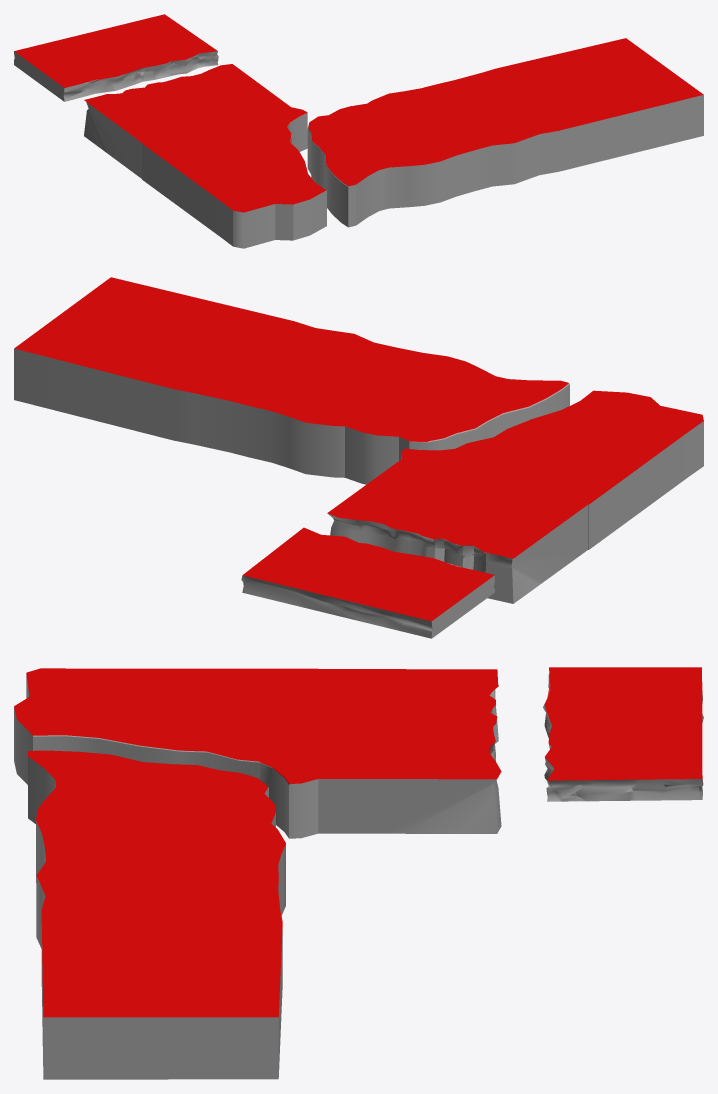
Rendered from Knight-TEX-Ground.fbx.
The picture shows the model from 3 angles, top to bottom: view 1: azimuth 30°, elevation 25°; view 2: azimuth 150°, elevation 25°; view 3: azimuth 270°, elevation 25°; orthographic projection. The views are drawn at different scales.
Parts seen in each view (by area): view 1: polySurface239, polySurface238, polySurface233, polySurface232; view 2: polySurface239, polySurface238, polySurface233, polySurface232; view 3: polySurface239, polySurface238, polySurface233, polySurface232.
Boxes of the visible parts, x1,y1,x2,y2 form: polySurface239: (307, 38, 703, 227); polySurface238: (142, 107, 326, 248); polySurface233: (84, 64, 290, 178); polySurface232: (14, 14, 218, 101); polySurface239: (14, 277, 569, 484); polySurface238: (401, 390, 703, 549); polySurface233: (327, 459, 587, 603); polySurface232: (241, 527, 494, 638); polySurface239: (28, 750, 285, 1079); polySurface238: (14, 668, 318, 838); polySurface233: (318, 669, 501, 833); polySurface232: (543, 667, 703, 801).
Size of the model in its own units: 234 by 19.42 by 195.
